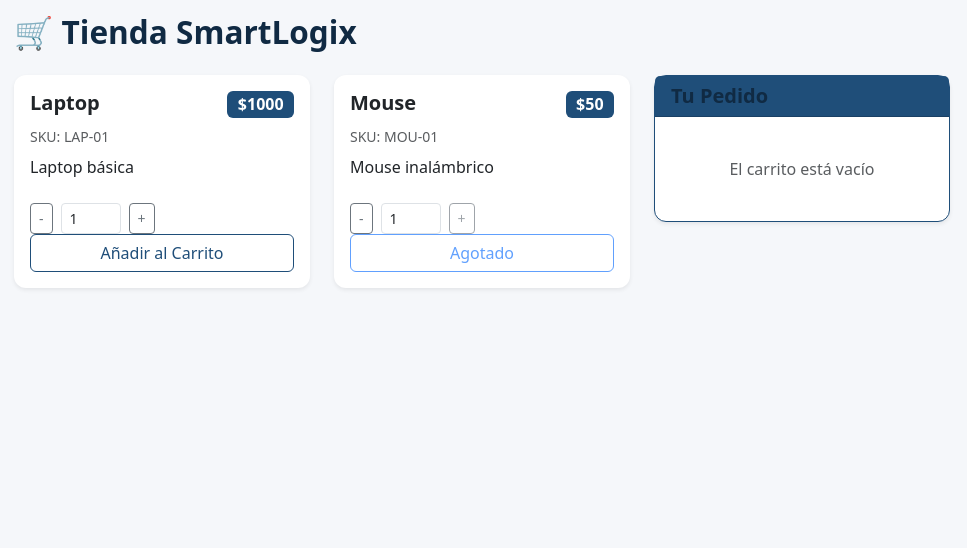
Catalogo › quita un producto del carrito al hacer click en X
The width and height of the screenshot is (967, 548).
expect the heading "Laptop" is shown: met, box [30, 91, 100, 115]
Click the button "Añadir al Carrito" at (162, 253), box [30, 234, 294, 272]
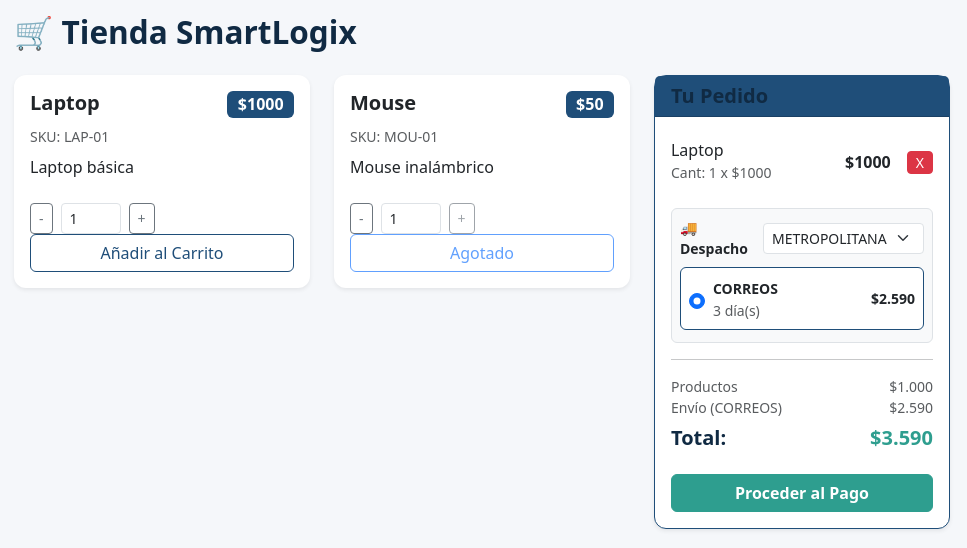
expect the text "El carrito está vacío" is gone: met
Click the button "X" at (920, 162), box [907, 151, 933, 174]
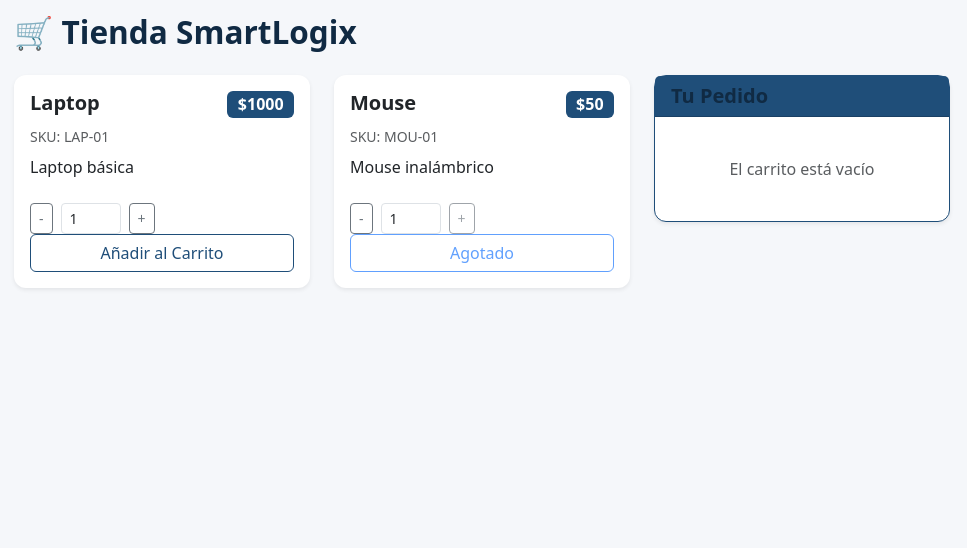
expect the text "El carrito está vacío" is shown: met, box [730, 158, 874, 180]
